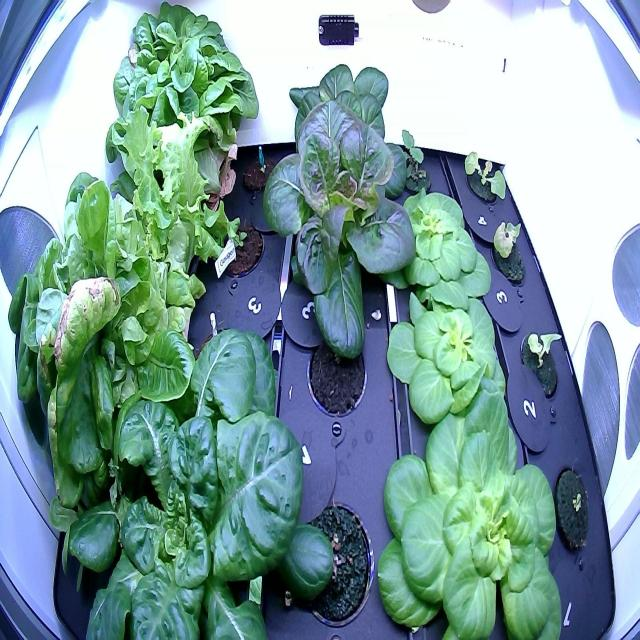Ready: (3, 164, 215, 538), (97, 0, 266, 260)
germination: (294, 487, 378, 635), (550, 458, 596, 562), (238, 146, 280, 200)
pod: (299, 310, 371, 424)
young: (61, 315, 339, 637), (369, 383, 566, 636), (255, 90, 426, 367), (379, 274, 513, 437), (274, 54, 408, 198), (376, 185, 495, 318), (514, 319, 570, 413), (486, 208, 532, 296), (212, 210, 264, 286), (462, 145, 513, 216)
